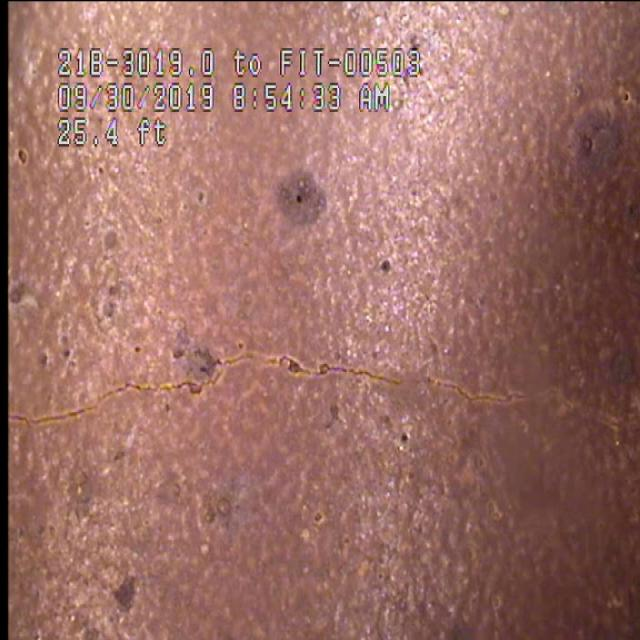Crack: (29, 285, 636, 488)
